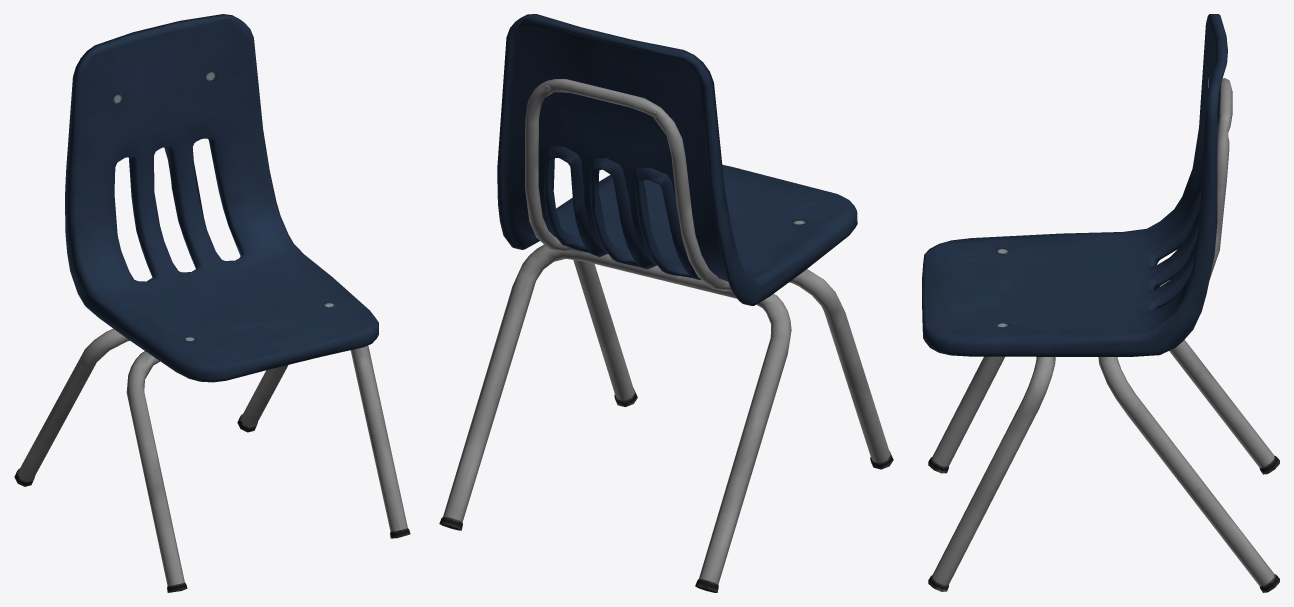
The model's file is SchoolChair_01.glb.
3 views of the same model, side by side, from view 1: azimuth 30°, elevation 25°; view 2: azimuth 150°, elevation 25°; view 3: azimuth 270°, elevation 25° (orthographic). The views are drawn at different scales.
Parts seen in each view (by area): view 1: SchoolChair_01; view 2: SchoolChair_01; view 3: SchoolChair_01.
Part boxes in pixels (box(x1,y1,x2,y2)): SchoolChair_01: box(14, 14, 410, 592); SchoolChair_01: box(439, 14, 893, 592); SchoolChair_01: box(922, 14, 1279, 592).
Bounding box in the file's own units: 0.5658 × 1 × 0.6732.
1 material, 1 textured.
